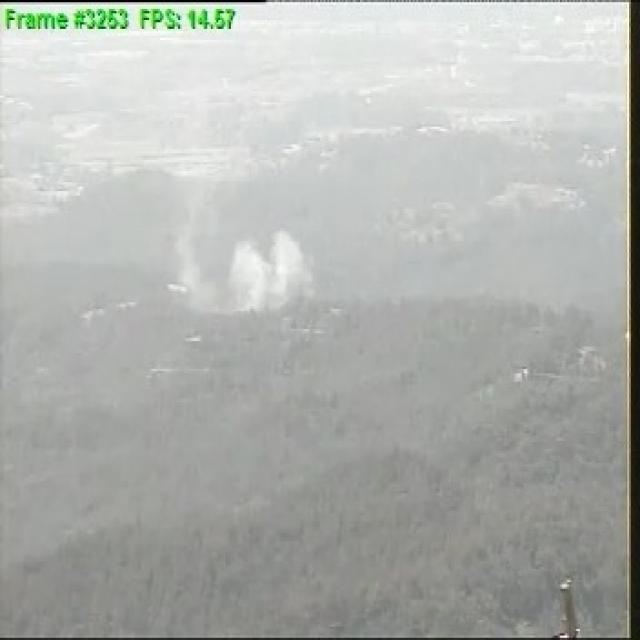smoke: (175, 217, 316, 312)
